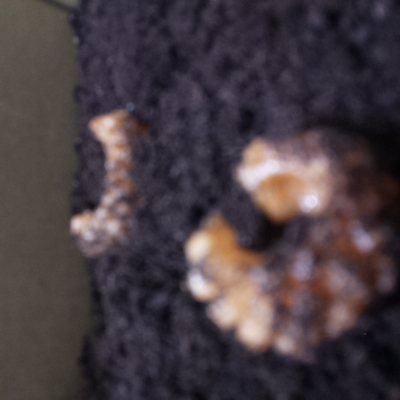eggs: (179, 113, 400, 371), (60, 105, 159, 264)
